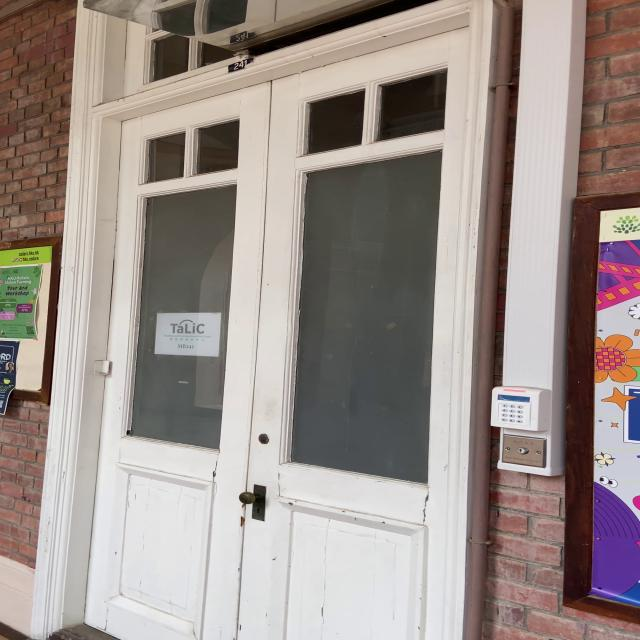room241: (226, 55, 255, 73)
